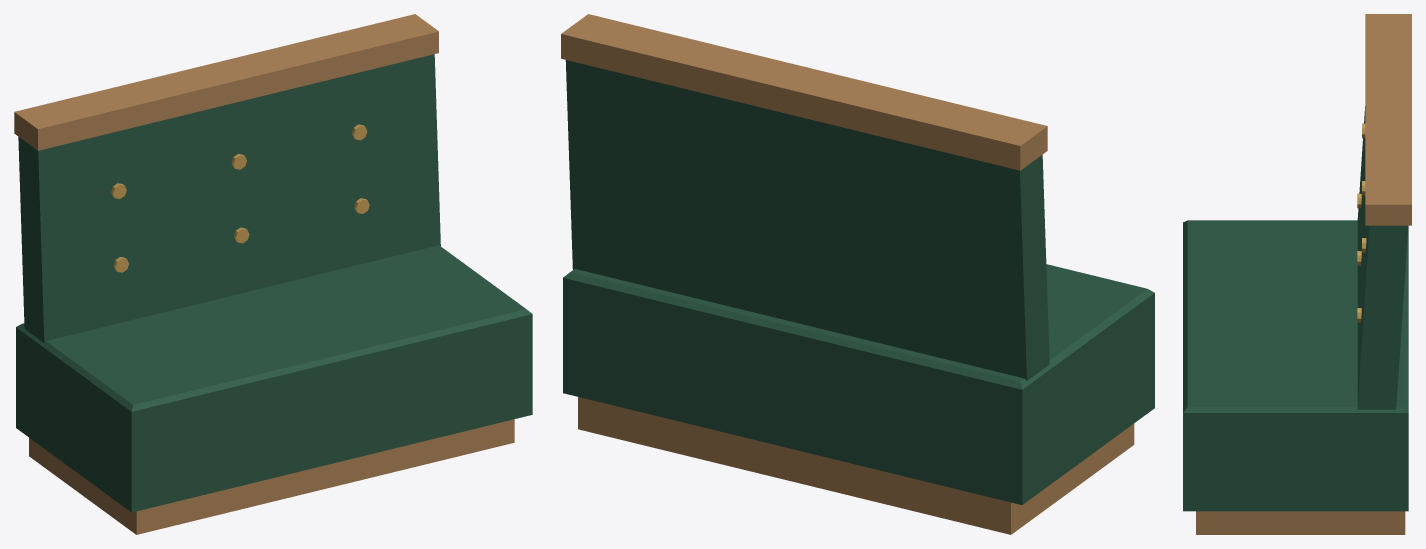
File: FN_Booth_Banquette.obj
3 views of the same model, side by side, from view 1: azimuth 30°, elevation 25°; view 2: azimuth 150°, elevation 25°; view 3: azimuth 270°, elevation 25° (orthographic). The views are drawn at different scales.
Visible parts, largest first — view 1: FN_Booth_Banquette; view 2: FN_Booth_Banquette; view 3: FN_Booth_Banquette.
Boxes of the visible parts, left/top/right/bottom form: FN_Booth_Banquette: left=14, top=14, right=532, bottom=534; FN_Booth_Banquette: left=561, top=14, right=1154, bottom=534; FN_Booth_Banquette: left=1183, top=14, right=1411, bottom=534.
Bounding box in the file's own units: 1.4 × 1.15 × 0.71.
Materials: 1 (1 with a texture image).
